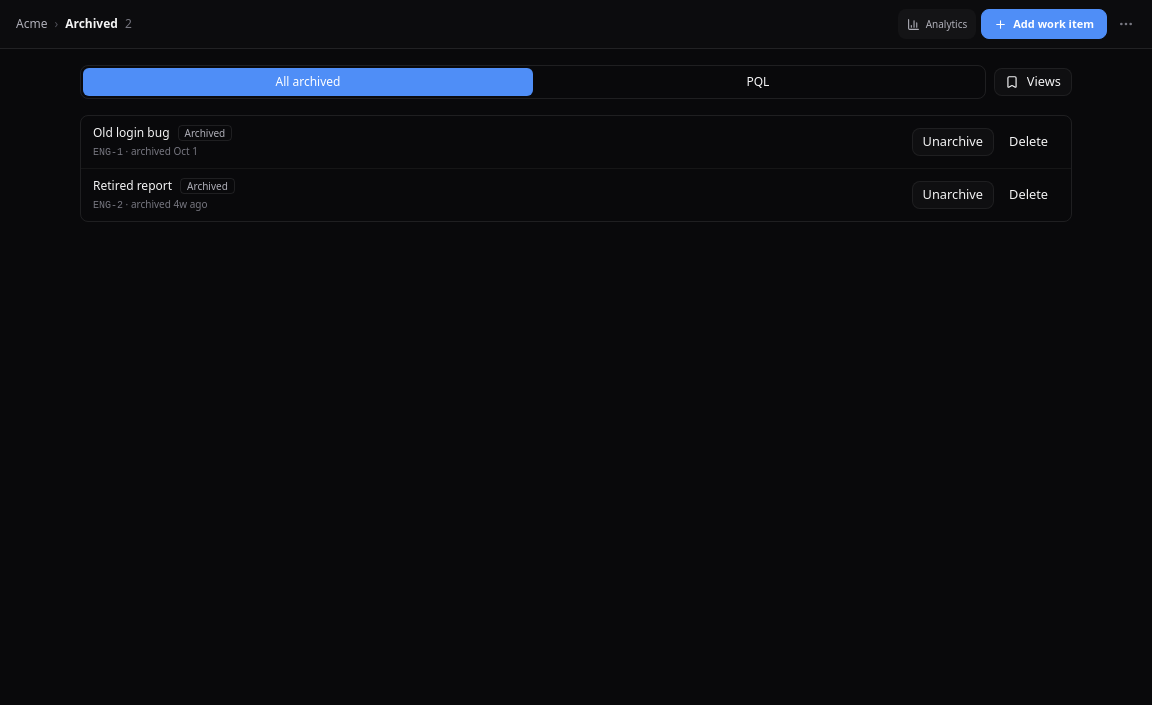
Scenario: archived saved views (C111T3) › applying a PQL view enters PQL mode with the view's query applied and the archived-only filter retained
Expected: the link "Old login bug" is shown, 93,124 -> 170,142
Expected: the link "Retired report" is shown, 93,177 -> 172,195
Click the button with aria-label "Saved views".
click(1033, 82)  # box 994,68 -> 1072,96
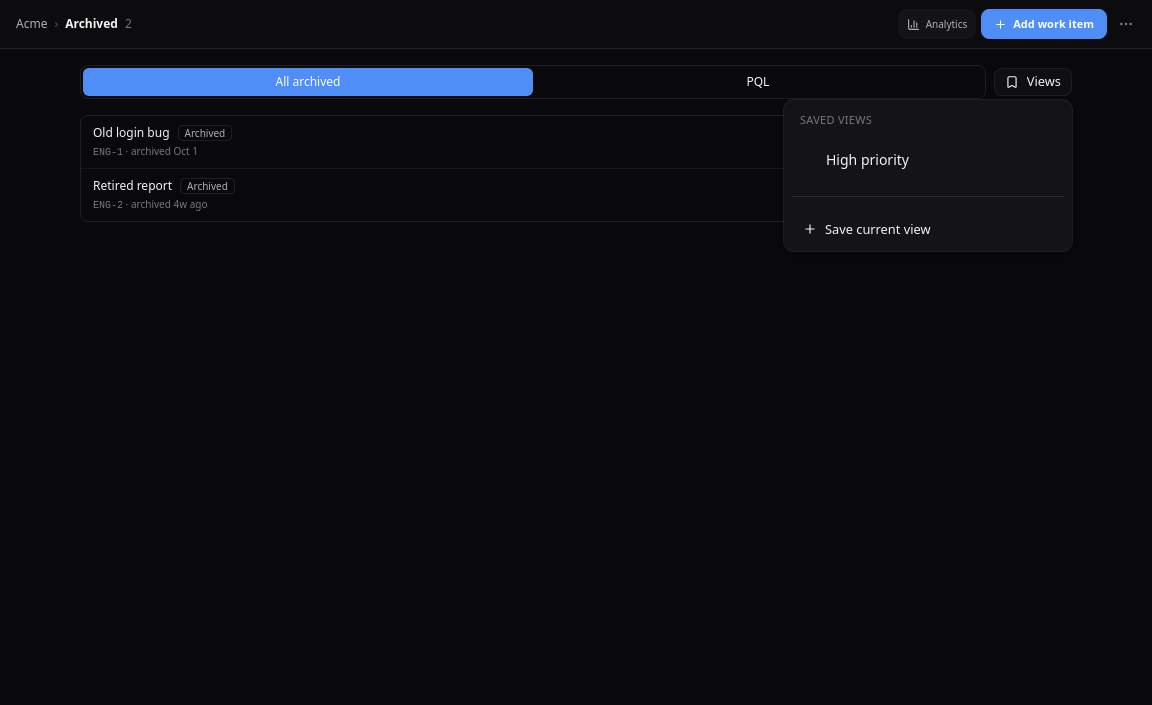
Expected: the button "Save current view" is shown, 792,215 -> 1064,243
Click the button titled "Apply view “High priority”".
click(868, 160)  # box 796,144 -> 940,176
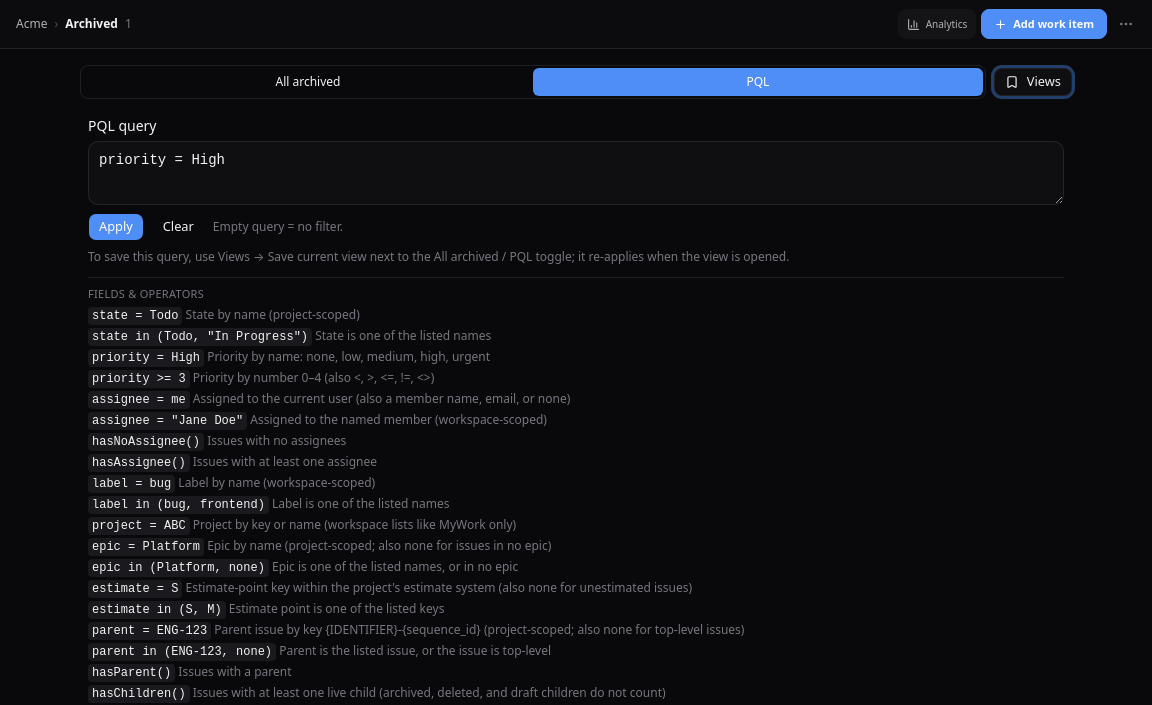
Expected: the link "Retired report" is gone
